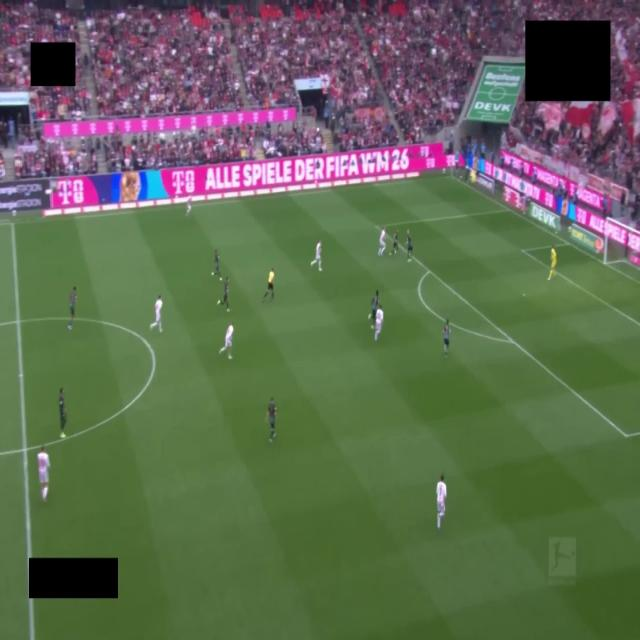player: (37, 446, 50, 502), (437, 475, 446, 529), (220, 324, 233, 359), (150, 296, 162, 332), (267, 397, 276, 442), (310, 240, 322, 271), (218, 278, 229, 311), (59, 388, 66, 438), (68, 287, 76, 330), (369, 290, 378, 327), (212, 249, 222, 280), (375, 305, 383, 341), (443, 320, 450, 357), (548, 247, 556, 279), (378, 228, 386, 255), (407, 231, 412, 261), (392, 231, 398, 255), (186, 197, 191, 216)
referee: (263, 268, 274, 301)
